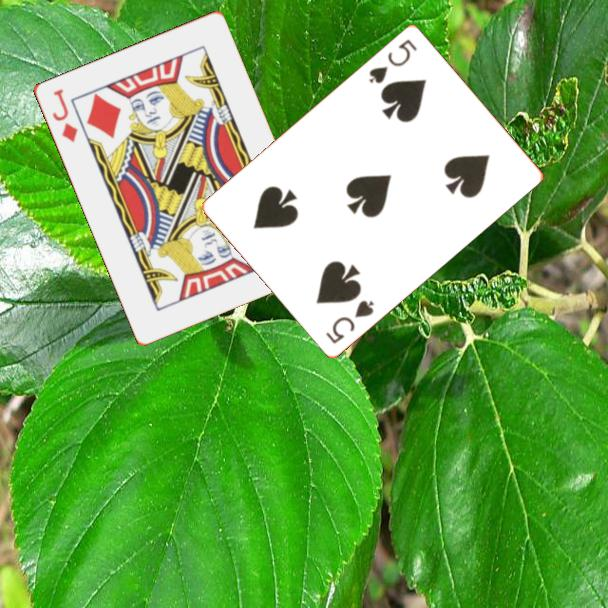d11: (48, 85, 80, 145)
s05: (365, 35, 420, 86), (322, 296, 377, 346)
